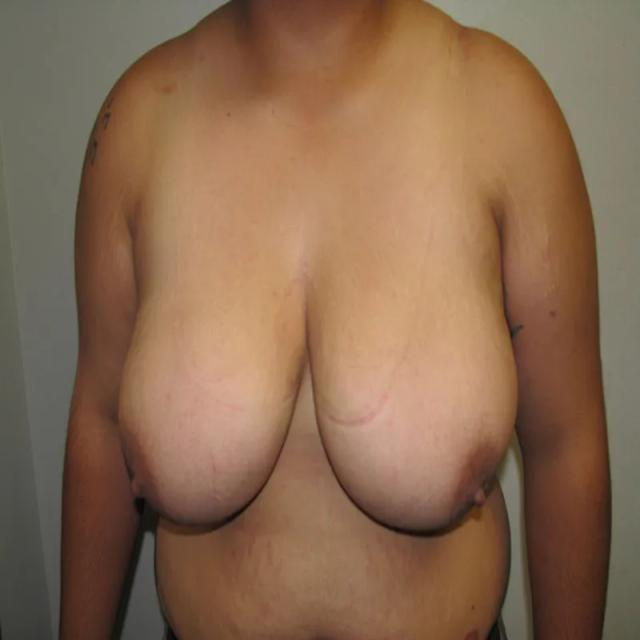Seno ileso: (309, 248, 524, 558), (112, 247, 306, 548)
